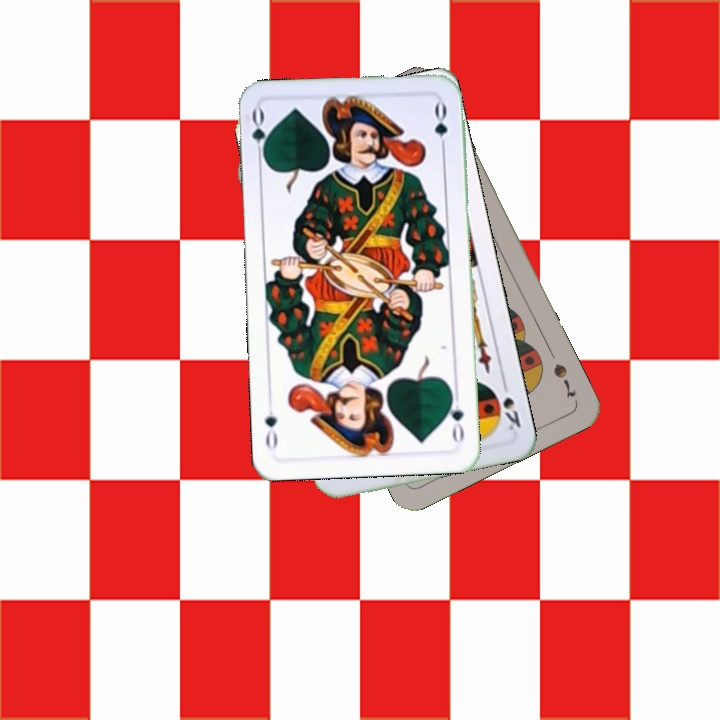GO: (248, 105, 273, 164), (443, 387, 467, 447)
S7: (549, 359, 579, 401)
SK: (498, 376, 524, 433)
